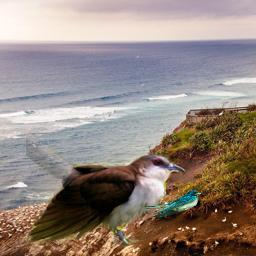Cuckoo: (26, 92, 187, 250)
Swallow: (140, 190, 201, 217)
